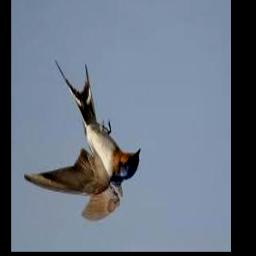Swallow: (23, 59, 140, 222)
